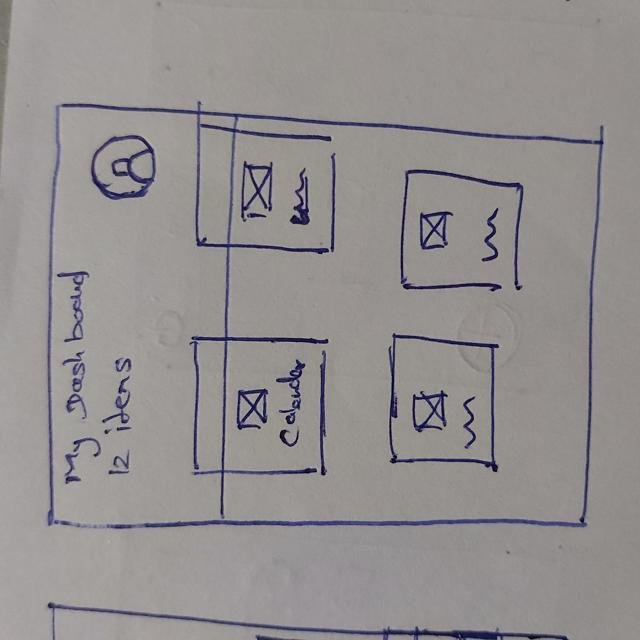AppBar: (47, 101, 227, 527)
Image: (241, 160, 275, 221), (411, 393, 448, 432), (236, 389, 269, 430), (419, 210, 451, 250)
Layout: (188, 334, 328, 474), (195, 123, 334, 260), (398, 168, 527, 292), (388, 331, 500, 466)
MainLayout: (46, 99, 604, 535)
RoundedImage: (89, 133, 159, 200)
TextView: (56, 268, 98, 487), (106, 355, 140, 482), (279, 360, 307, 454), (287, 164, 314, 231), (482, 207, 501, 266), (462, 395, 481, 450)
